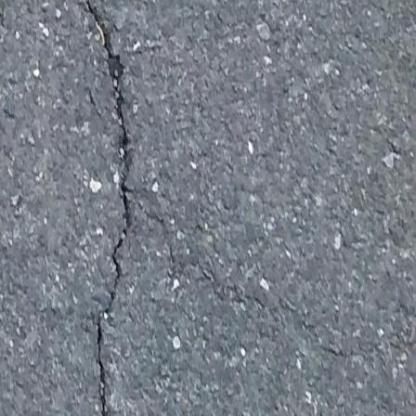Cracks: (50, 1, 180, 416)
